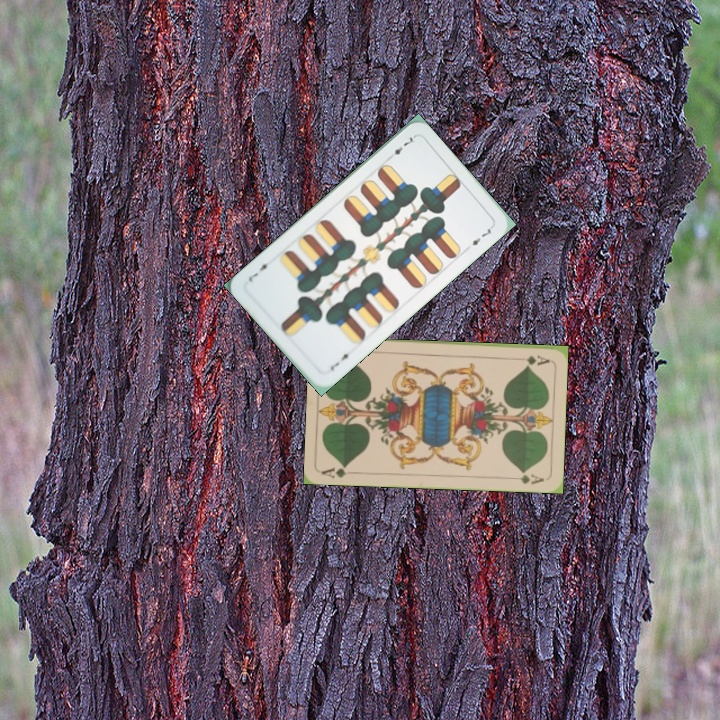E7: (384, 132, 418, 162), (326, 348, 355, 373)
GA: (318, 461, 359, 481), (522, 351, 552, 367)
